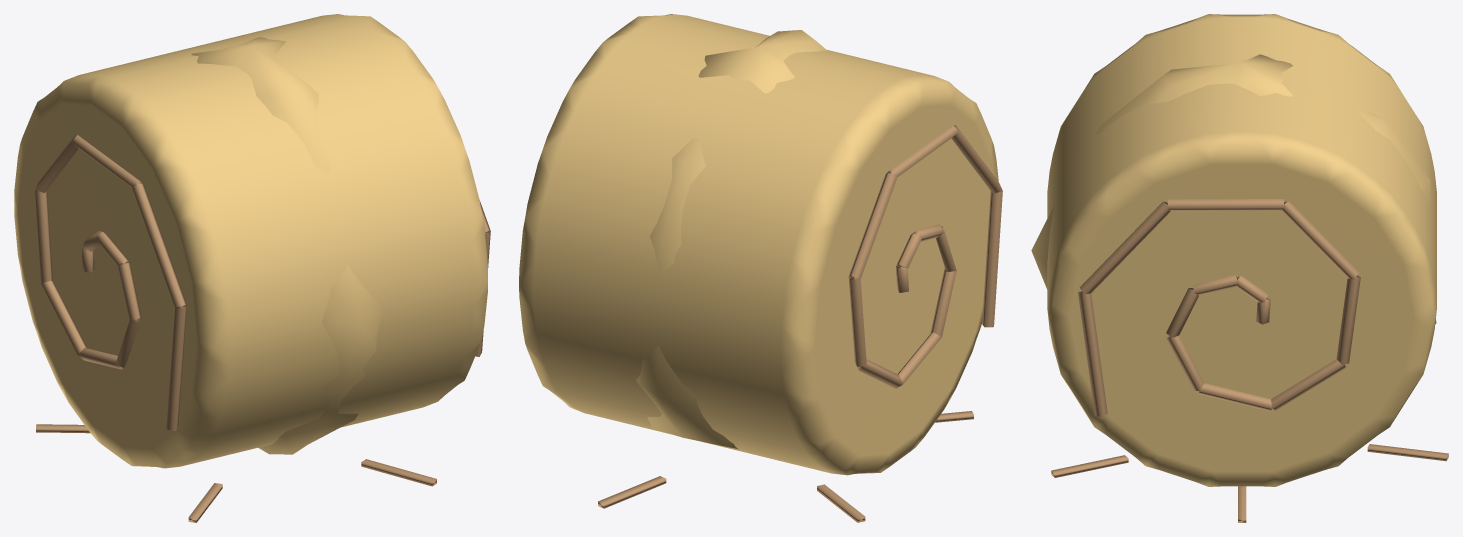
Rendered from hay_roll.glb.
3 views of the same model, side by side, from view 1: azimuth 30°, elevation 25°; view 2: azimuth 150°, elevation 25°; view 3: azimuth 270°, elevation 25° (orthographic). The views are drawn at different scales.
Parts seen in each view (by area): view 1: Roll; view 2: Roll; view 3: Roll.
Part boxes in pixels (<box>): Roll: <box>14,14,490,522</box>; Roll: <box>519,14,1002,522</box>; Roll: <box>1031,14,1448,522</box>.
Bounding box in the file's own units: 0.933 × 1.01 × 1.02.
